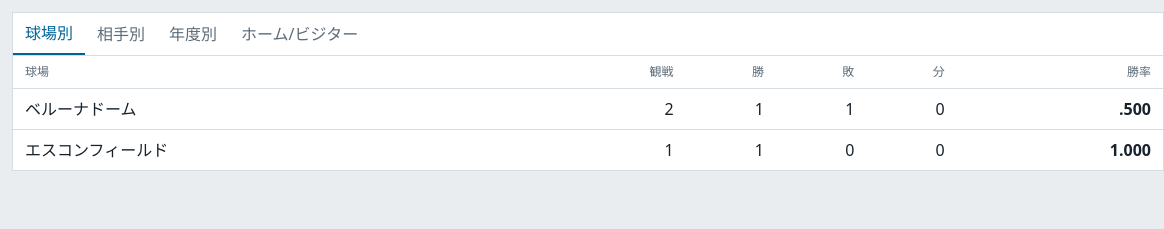
Test case: CrossStats › 年度別: 記録の無い年度も 0 件行として明示する（隠さない）
What coordinates should you click on to do the following:
click the tab "年度別"
I would click on:
 (193, 34)
Its box is [157,13,229,55].
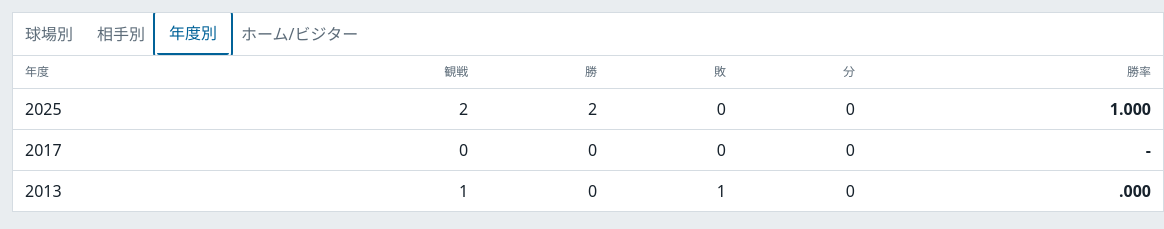
expect the 3rd cell "0" is shown: met, box [292,130,476,170]
expect the cell "-" is shown: met, box [863,130,1163,170]
